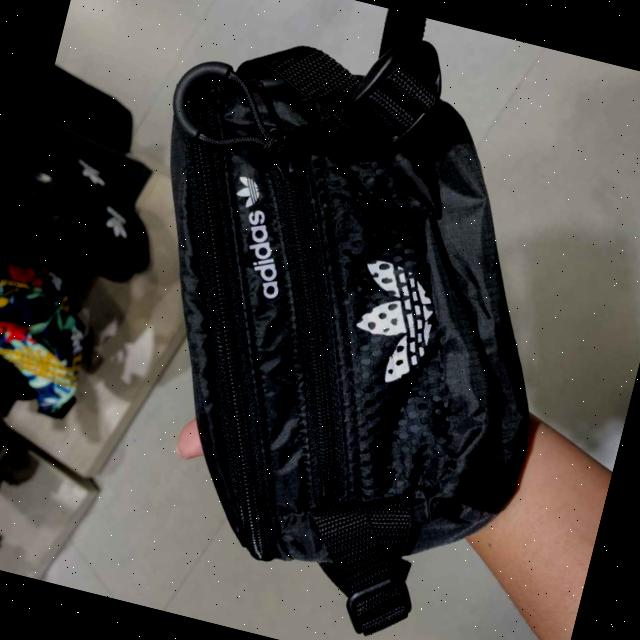handbag: (68, 0, 622, 620)
